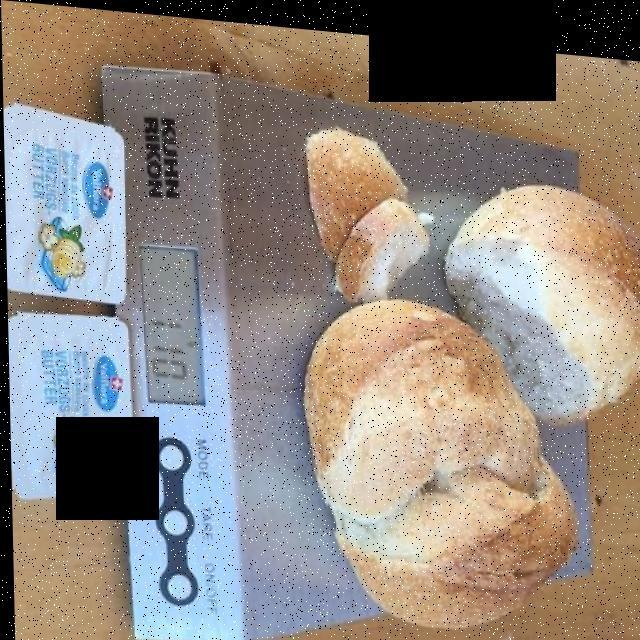bread: (288, 111, 640, 619)
butter: (11, 99, 133, 499)
